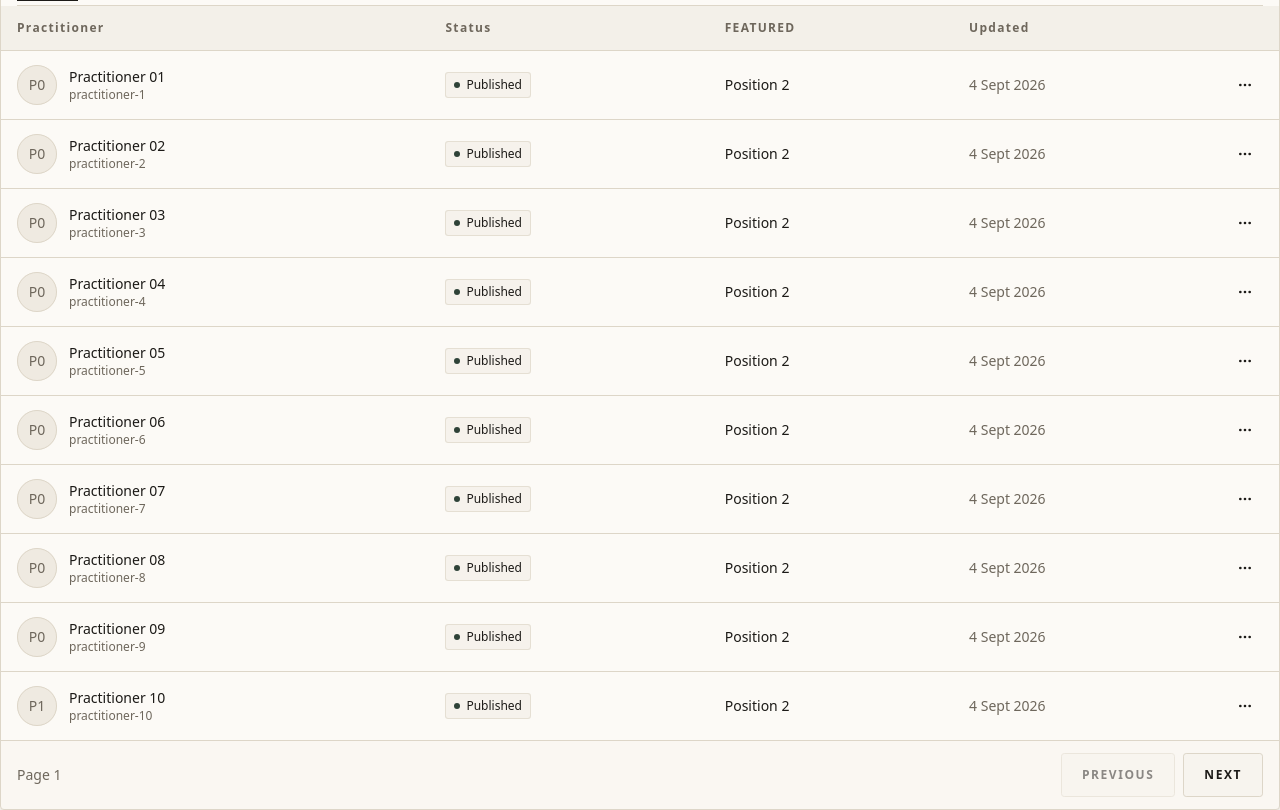
Test case: practitioner and taxonomy CMS controls › paginates practitioner records
(page scrolled)
Expected: the text "Page 1" is shown, [17, 764, 62, 784]
Click the button "Next": (1223, 774) [1183, 752, 1263, 796]
(page scrolled)
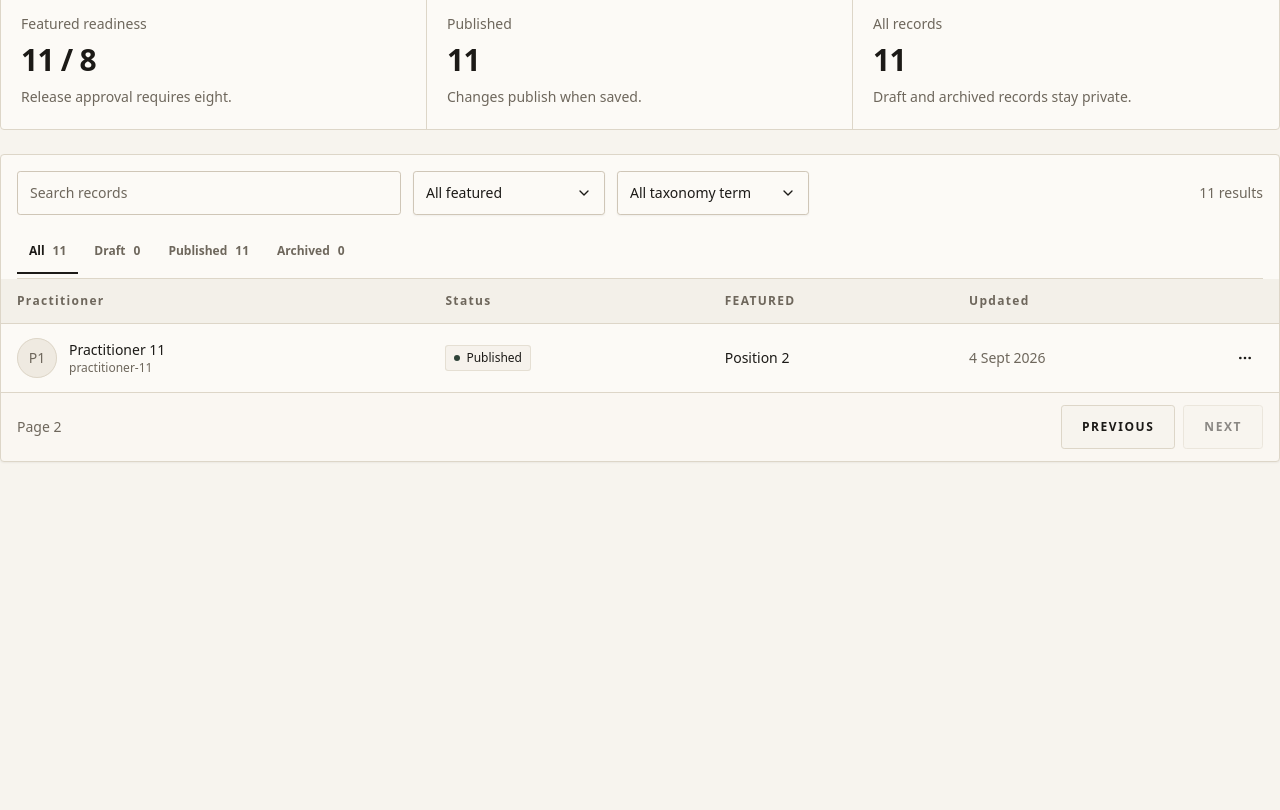
Now the text "Page 2" is shown, box [17, 416, 62, 436]
Now the text "Practitioner 11" is shown, box [69, 340, 165, 360]
Now the text "Practitioner 01" is gone
